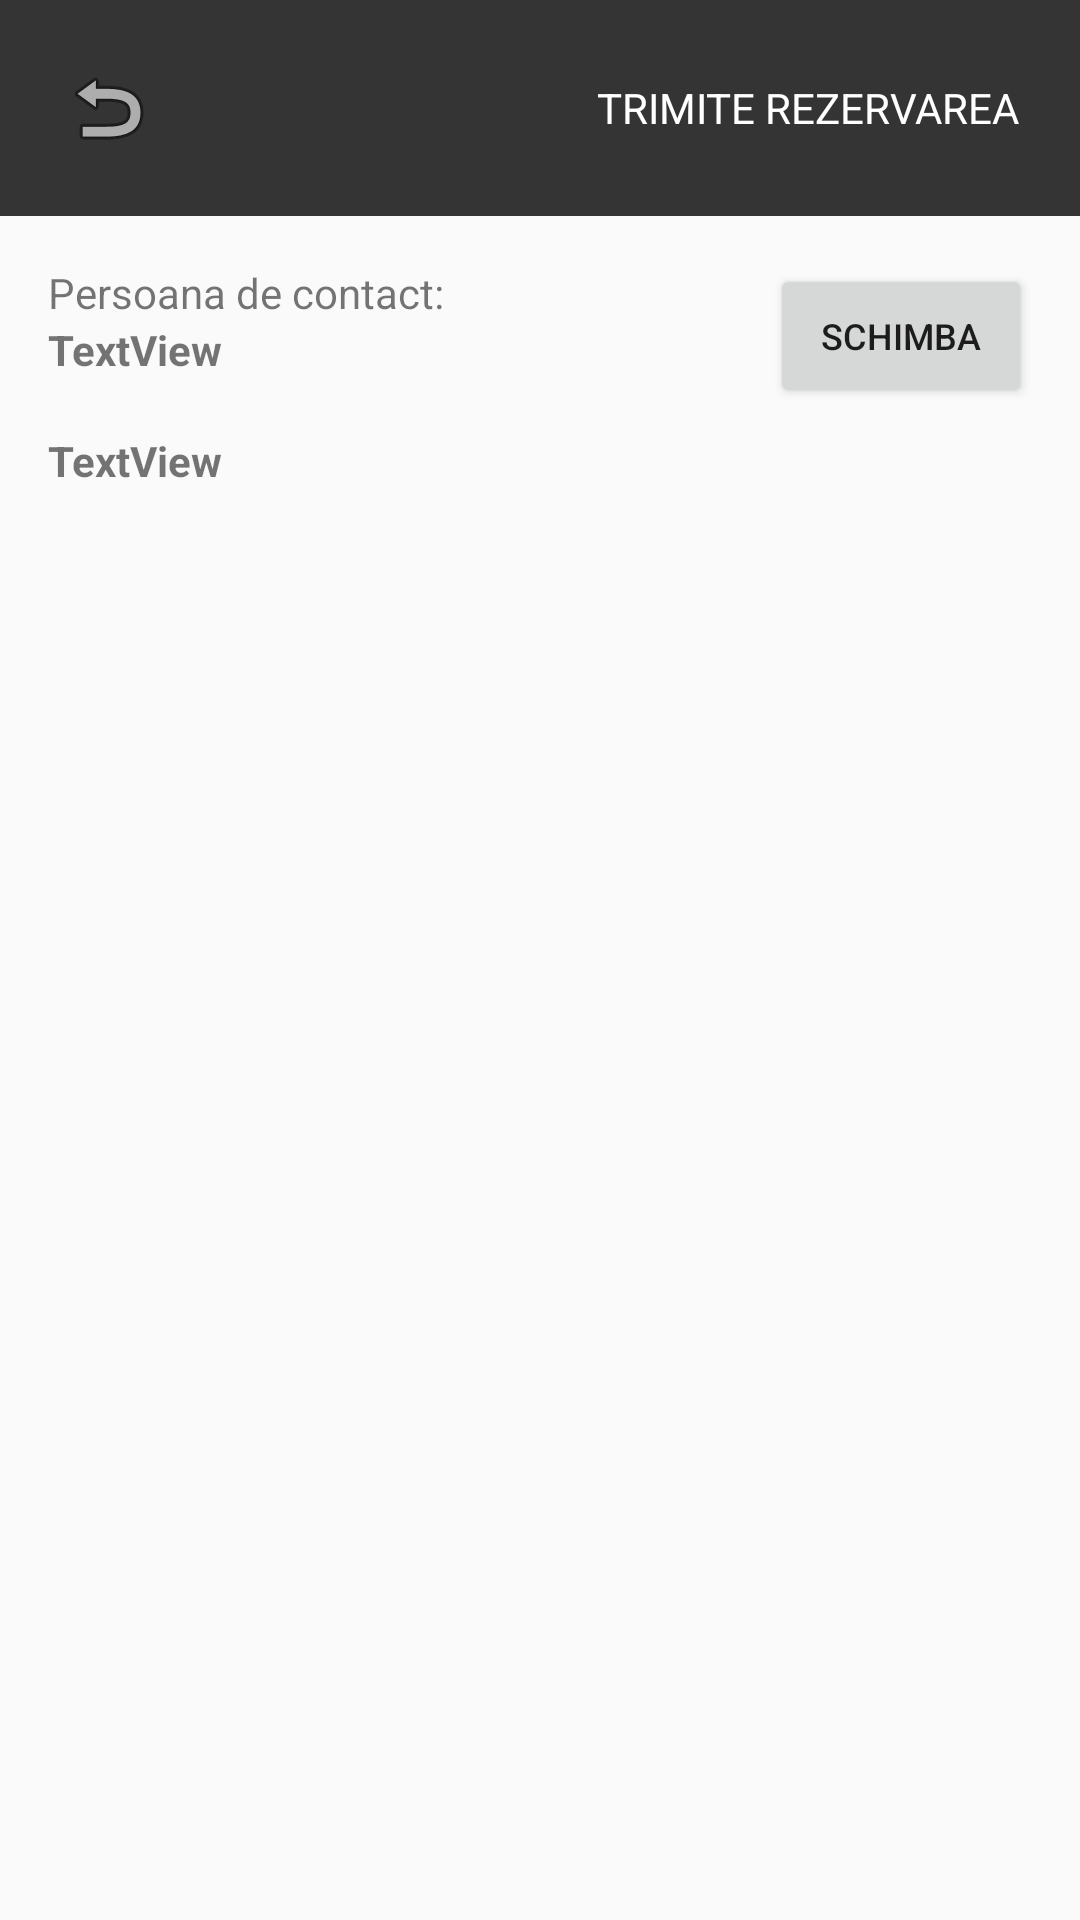

Named icons in this screenshot (1080px×1920px) and their bounding boxes, (x1, y1, x2, y2):
revert: (77, 79, 142, 138)
